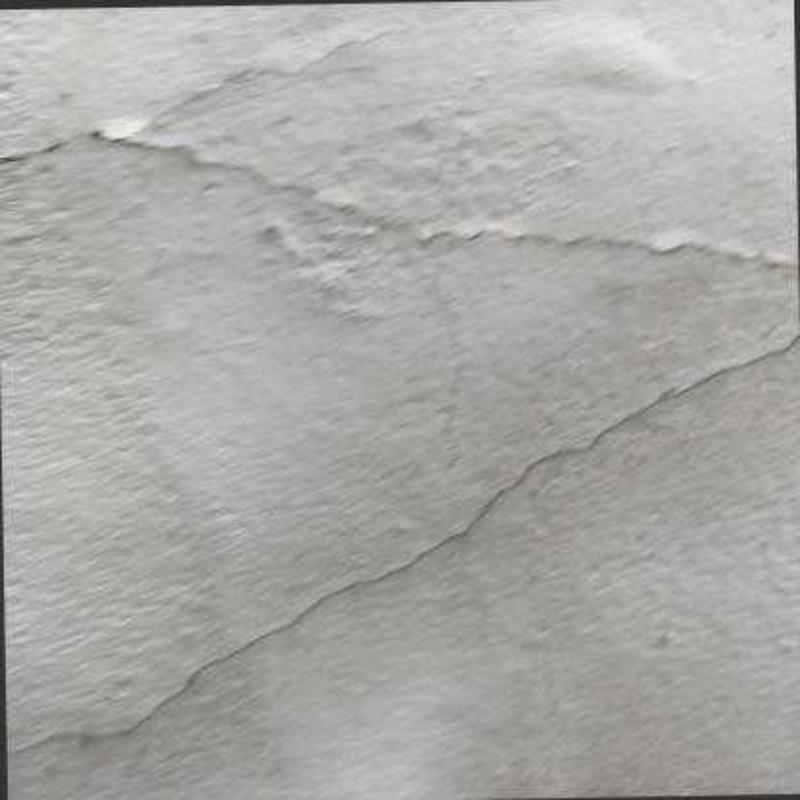crack: (20, 333, 798, 759), (0, 21, 798, 273)
